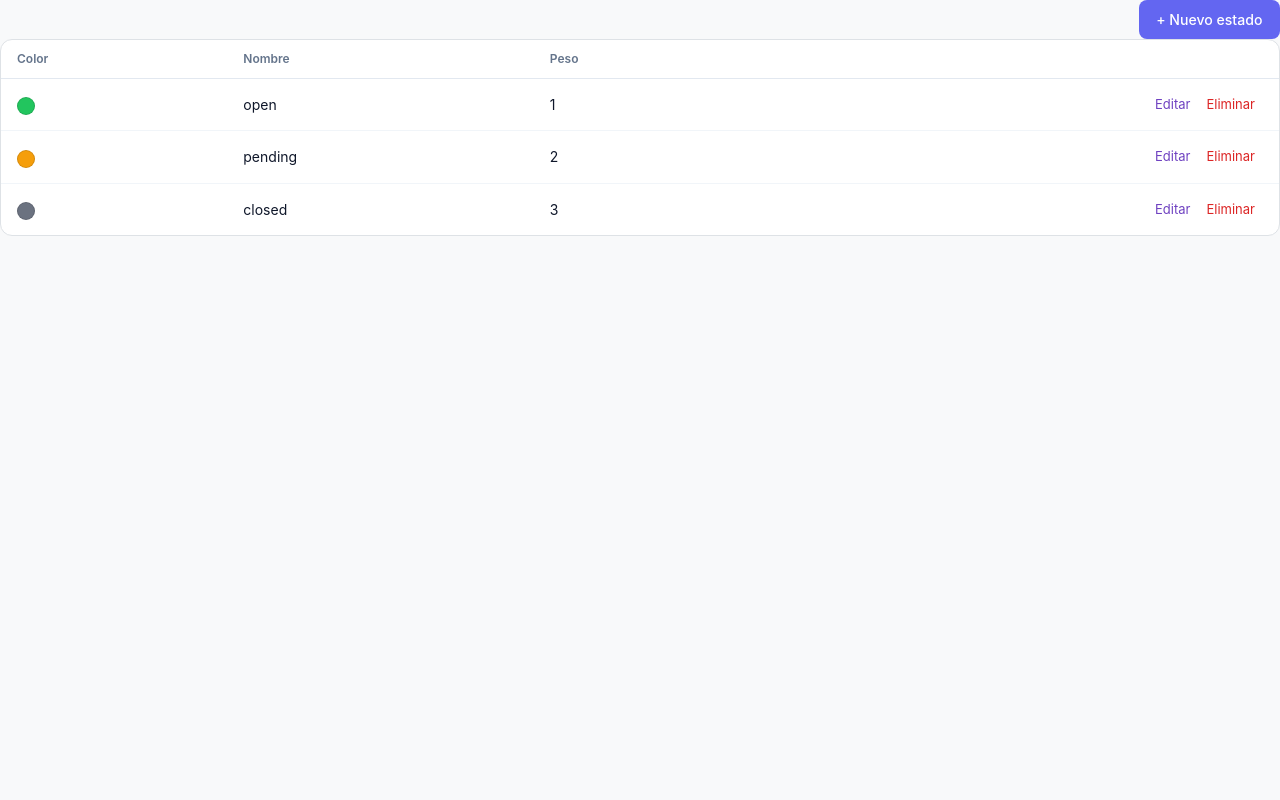
Test: TicketStatusesBody › opens edit modal with pre-filled data when "Editar" is clicked
Step 1. Click the button "Editar" in the row of "open" → (1173, 104), box left=1147, top=91, right=1198, bottom=118
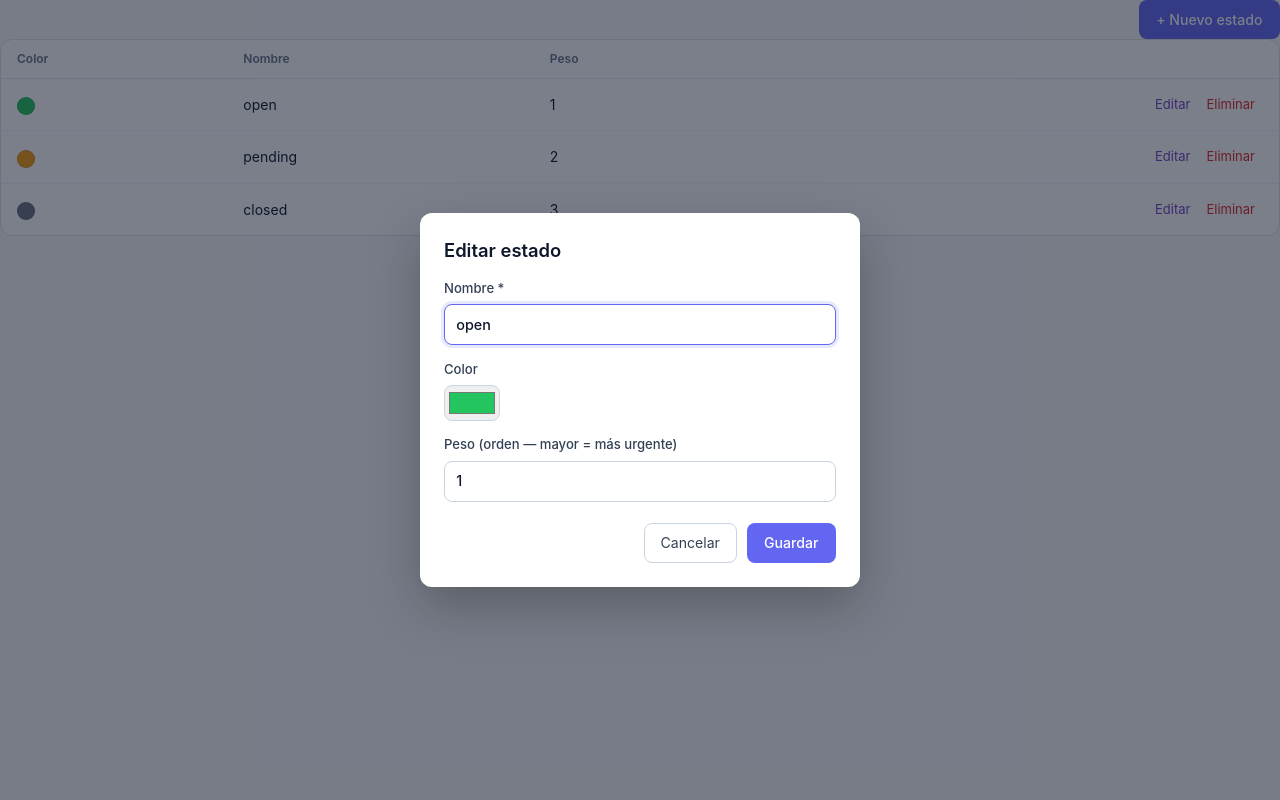
Now the heading "Editar estado" is shown, box left=444, top=239, right=561, bottom=261
Now the field showing "open" is shown, box left=444, top=304, right=836, bottom=345
